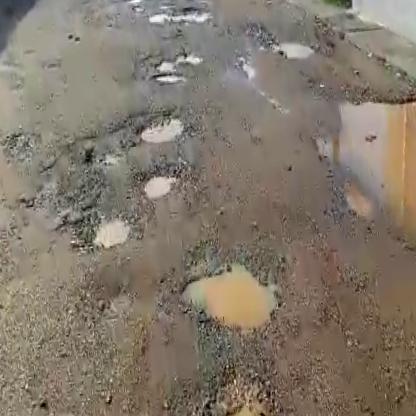pothole: (171, 245, 283, 338), (188, 373, 299, 416), (75, 208, 139, 250), (128, 105, 189, 147), (148, 49, 204, 89), (135, 160, 189, 198), (148, 4, 208, 31), (271, 37, 317, 63)
